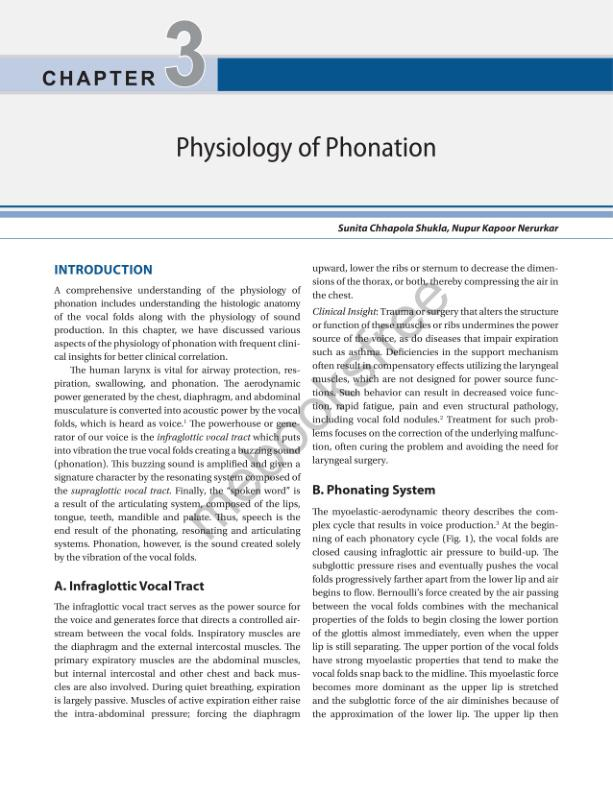chapter-heading: (174, 136, 436, 164)
section-heading: (53, 263, 155, 277)
sub-section-heading: (52, 579, 206, 595), (311, 483, 436, 498)
text: (51, 283, 302, 564), (311, 505, 561, 722), (310, 262, 560, 468), (52, 600, 302, 721)
